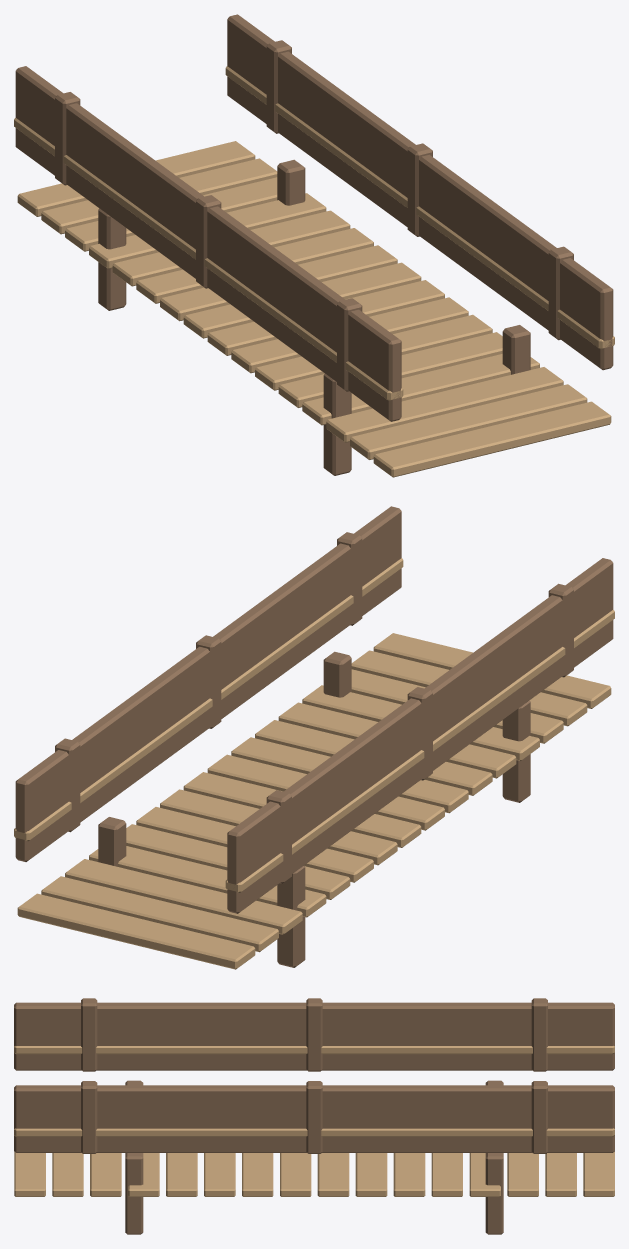
The model's file is town_timber_plank_bridge.glb.
3 views of the same model, one above another, from view 1: azimuth 30°, elevation 25°; view 2: azimuth 150°, elevation 25°; view 3: azimuth 270°, elevation 25° (orthographic). The views are drawn at different scales.
Parts seen in each view (by area): view 1: world; view 2: world; view 3: world.
Part boxes in pixels (bbox=[...]): world: bbox=[14, 14, 614, 477]; world: bbox=[14, 506, 614, 969]; world: bbox=[14, 998, 614, 1234].
Bounding box in the file's own units: 0.7049 × 0.5677 × 2.
